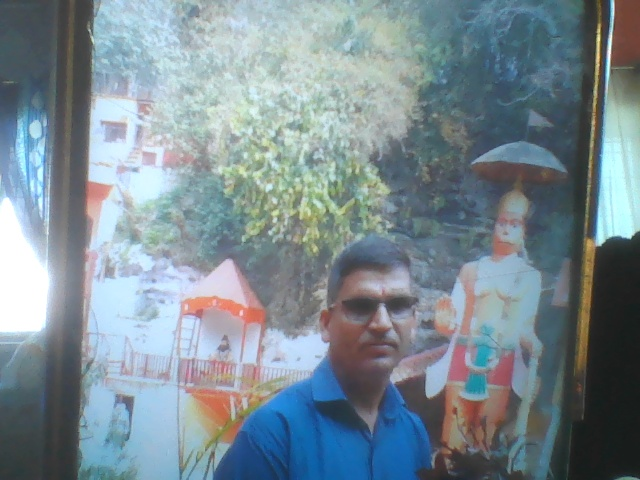fake: (315, 216, 444, 399)
